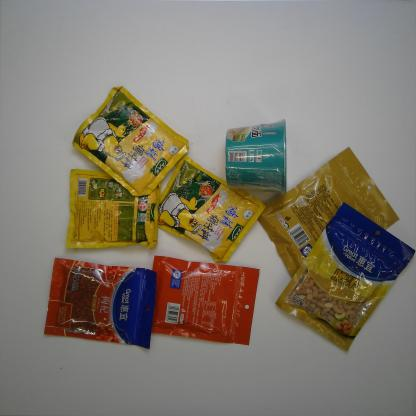Dried Fruit: (275, 201, 416, 353), (256, 147, 400, 280), (43, 257, 158, 350), (148, 255, 260, 347)
Instant Noodles: (225, 118, 288, 194)
Seasoner: (72, 85, 190, 198), (155, 155, 267, 263), (66, 168, 160, 250)
